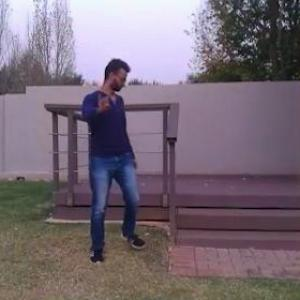takeoff-hand: (91, 82, 115, 110)
